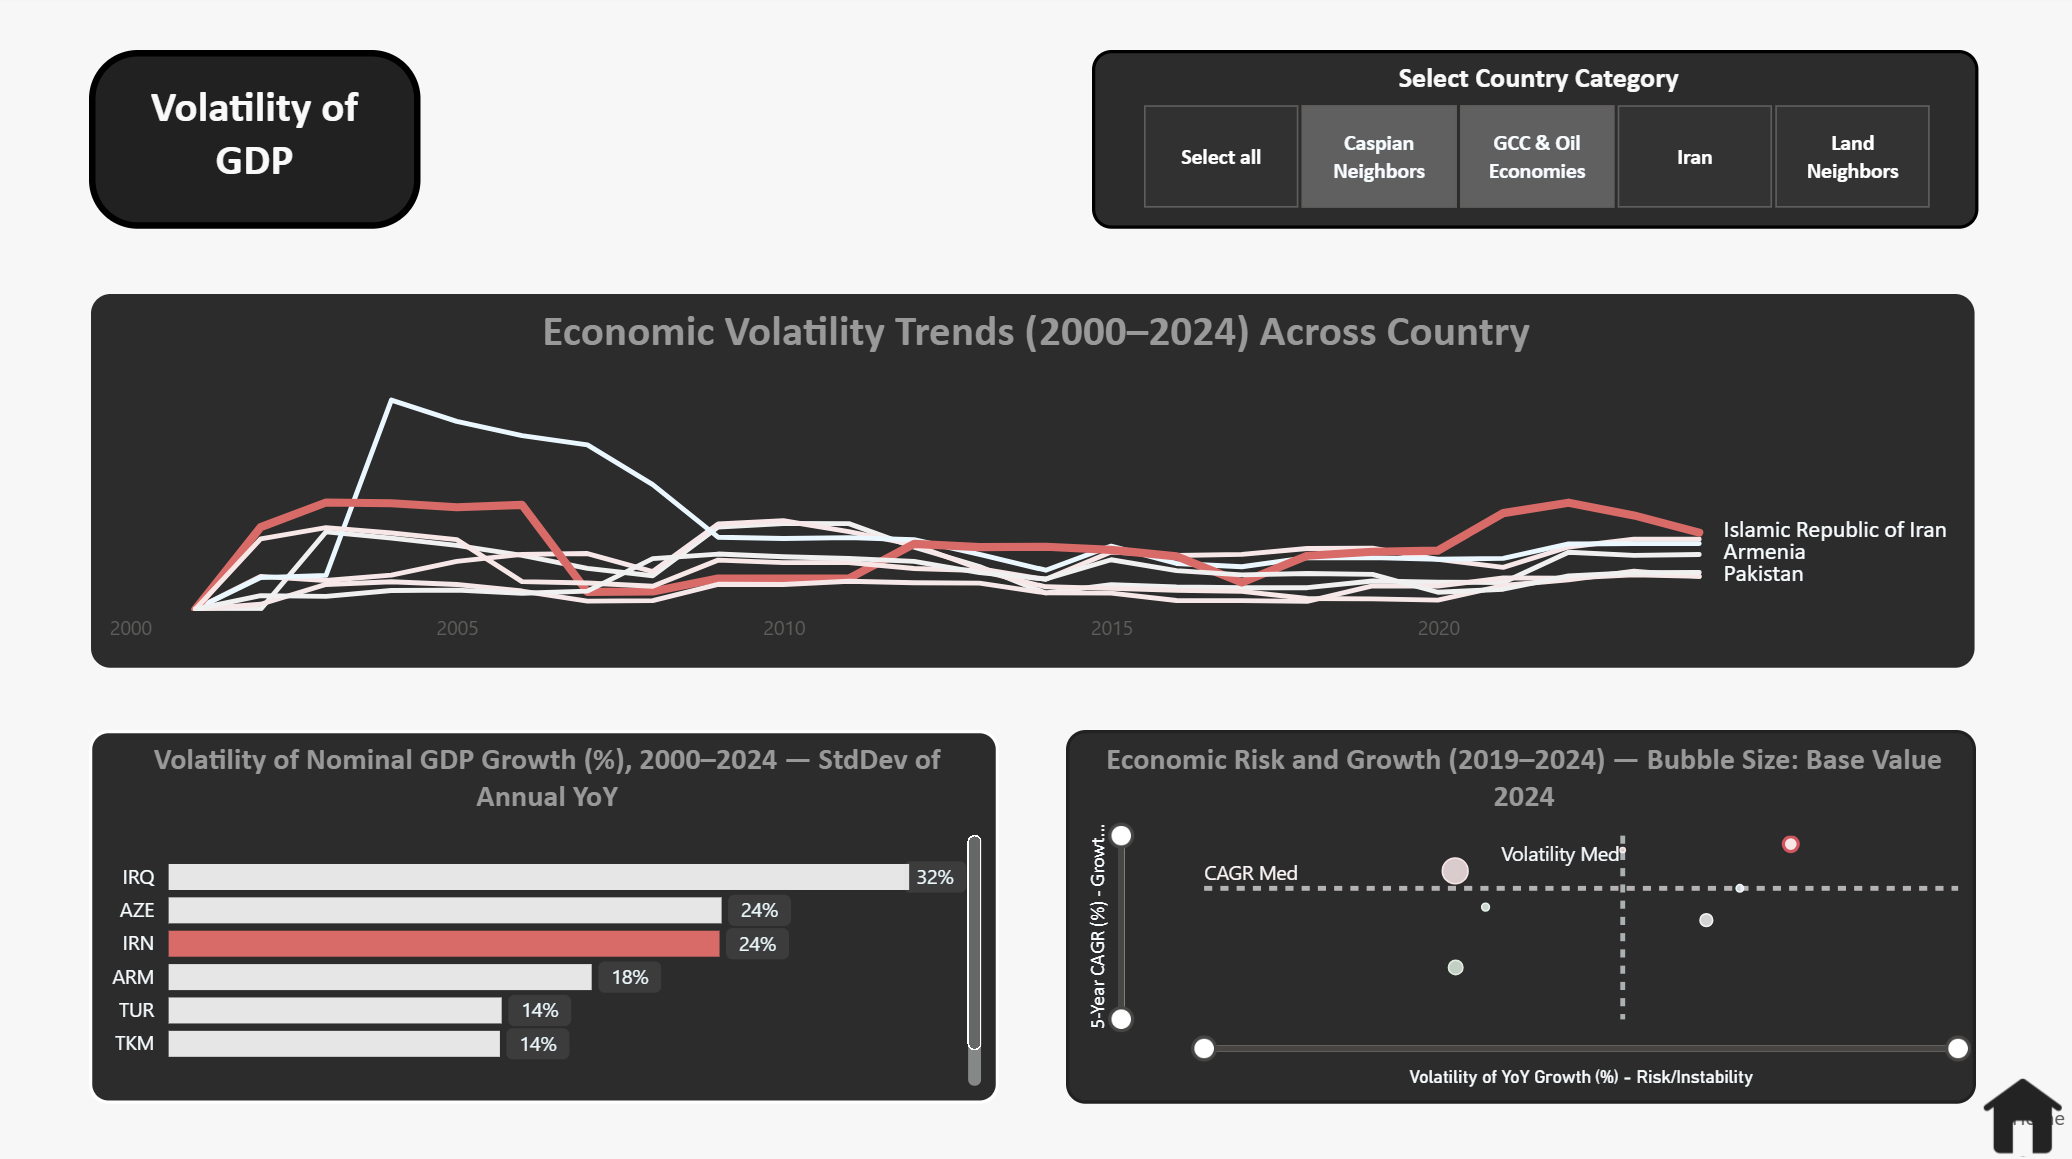

What the dashboard file says about the page in this screenshot:
{"tool":"powerbi","page":{"name":"Volatility","canvas":[1280,720],"ordinal":11},"visuals":[{"type":"clusteredBarChart","title":"Volatility of Nominal GDP Growth (%), 2000–2024 — StdDev of Annual YoY","fields":{"Y":["WEO.Volatility"],"Category":["DimCountry.ISO"]},"box":[60,453.8,560,230],"z":0},{"type":"scatterChart","title":"Economic Risk and Growth (2019–2024) — Bubble Size: Base Value 2024","fields":{"Y":["WEO.CAGR (5Y up to Latest)"],"X":["WEO.Volatility (5Y up to Latest)"],"Size":["WEO.Base Value (Latest)"],"Category":["DimCountryColor.Country"]},"box":[661.4,454.3,560,230],"z":1000},{"type":"lineChart","title":"Economic Volatility Trends (2000–2024) Across Country","fields":{"Category":["DimYear.Year"],"Y":["WEO.Rolling 5Y Volatility"],"Series":["DimCountryColor.Country"]},"box":[61.4,185.7,1158.6,230],"z":2000},{"type":"textbox","box":[60,36.2,203.8,110],"z":3000},{"type":"slicer","title":"Select Country Category","fields":{"Values":["DimCountry.Tier Explanation"]},"box":[677.1,35.7,545.7,110],"z":4000},{"type":"actionButton","box":[1220,664,60,56],"z":5000}]}

Visuals, with their boxes in screenshot pixels (x1, y1, x2, y2), scaled from the page's 1280x720 canvas onto the 2072x1159 screenshot:
"Volatility of Nominal GDP Growth (%), 2000–2024 — StdDev of Annual YoY" clusteredBarChart: [x1=97, y1=730, x2=1004, y2=1101]
"Economic Risk and Growth (2019–2024) — Bubble Size: Base Value 2024" scatterChart: [x1=1071, y1=731, x2=1977, y2=1102]
"Economic Volatility Trends (2000–2024) Across Country" lineChart: [x1=99, y1=299, x2=1975, y2=669]
textbox: [x1=97, y1=58, x2=427, y2=235]
"Select Country Category" slicer: [x1=1096, y1=57, x2=1979, y2=235]
actionButton: [x1=1975, y1=1069, x2=2071, y2=1158]
